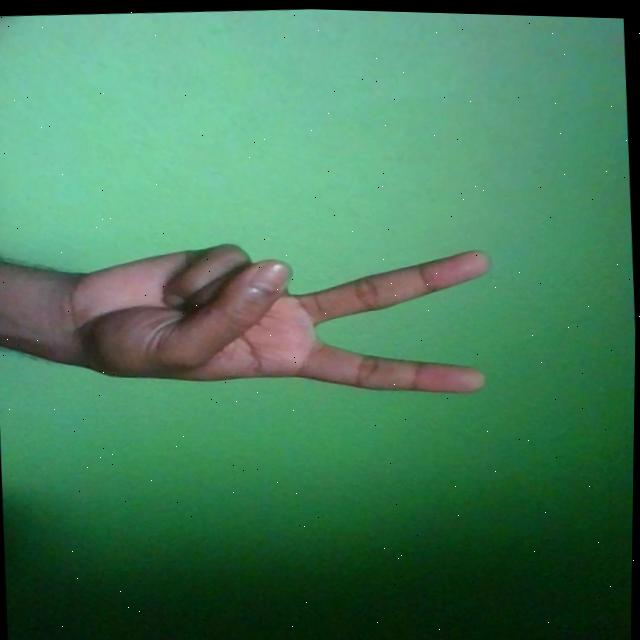Peace: (48, 225, 499, 412)
